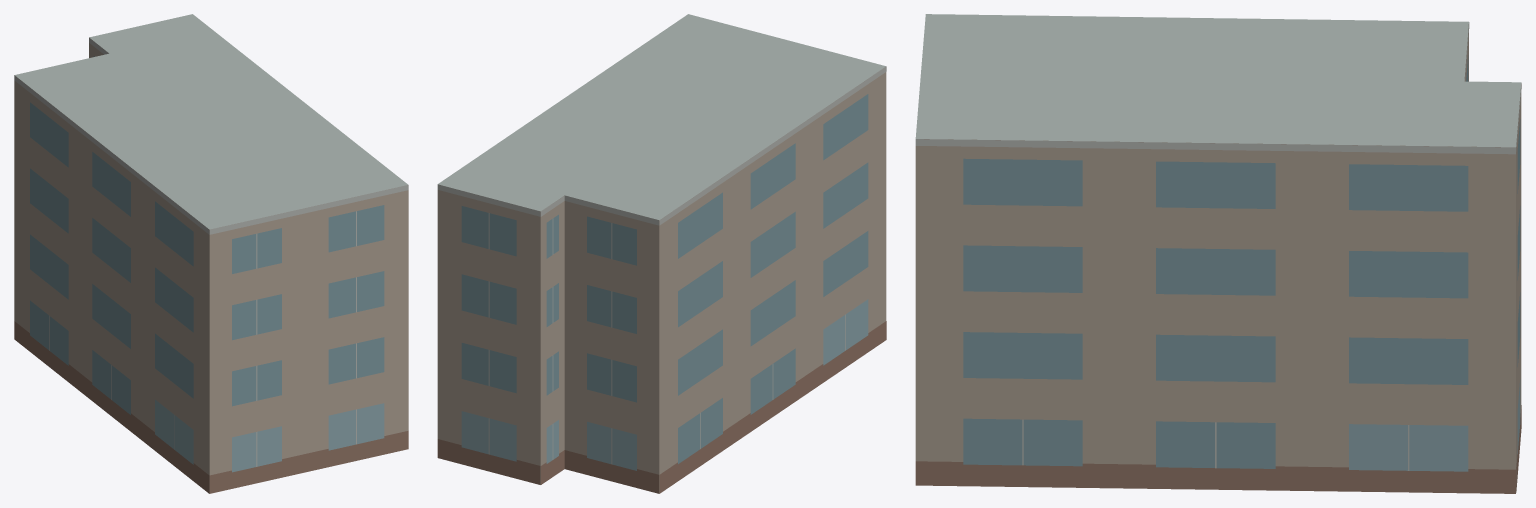
Rendered from residential-6d509e75-6828-435c-8ecb-269f7efa9c49.glb.
The picture shows the model from 3 angles, left to right: view 1: azimuth 30°, elevation 25°; view 2: azimuth 150°, elevation 25°; view 3: azimuth 270°, elevation 25°; orthographic projection. The views are drawn at different scales.
Visible parts, largest first — view 1: residential-6d509e75-6828-435c-8ecb-269f7efa9c49.tmp; view 2: residential-6d509e75-6828-435c-8ecb-269f7efa9c49.tmp; view 3: residential-6d509e75-6828-435c-8ecb-269f7efa9c49.tmp.
Boxes of the visible parts, x1,y1,x2,y2 form: residential-6d509e75-6828-435c-8ecb-269f7efa9c49.tmp: (14,14,408,493); residential-6d509e75-6828-435c-8ecb-269f7efa9c49.tmp: (437,14,886,493); residential-6d509e75-6828-435c-8ecb-269f7efa9c49.tmp: (915,14,1521,493).
Size of the model in its own units: 10.08 by 12.2 by 19.34.
